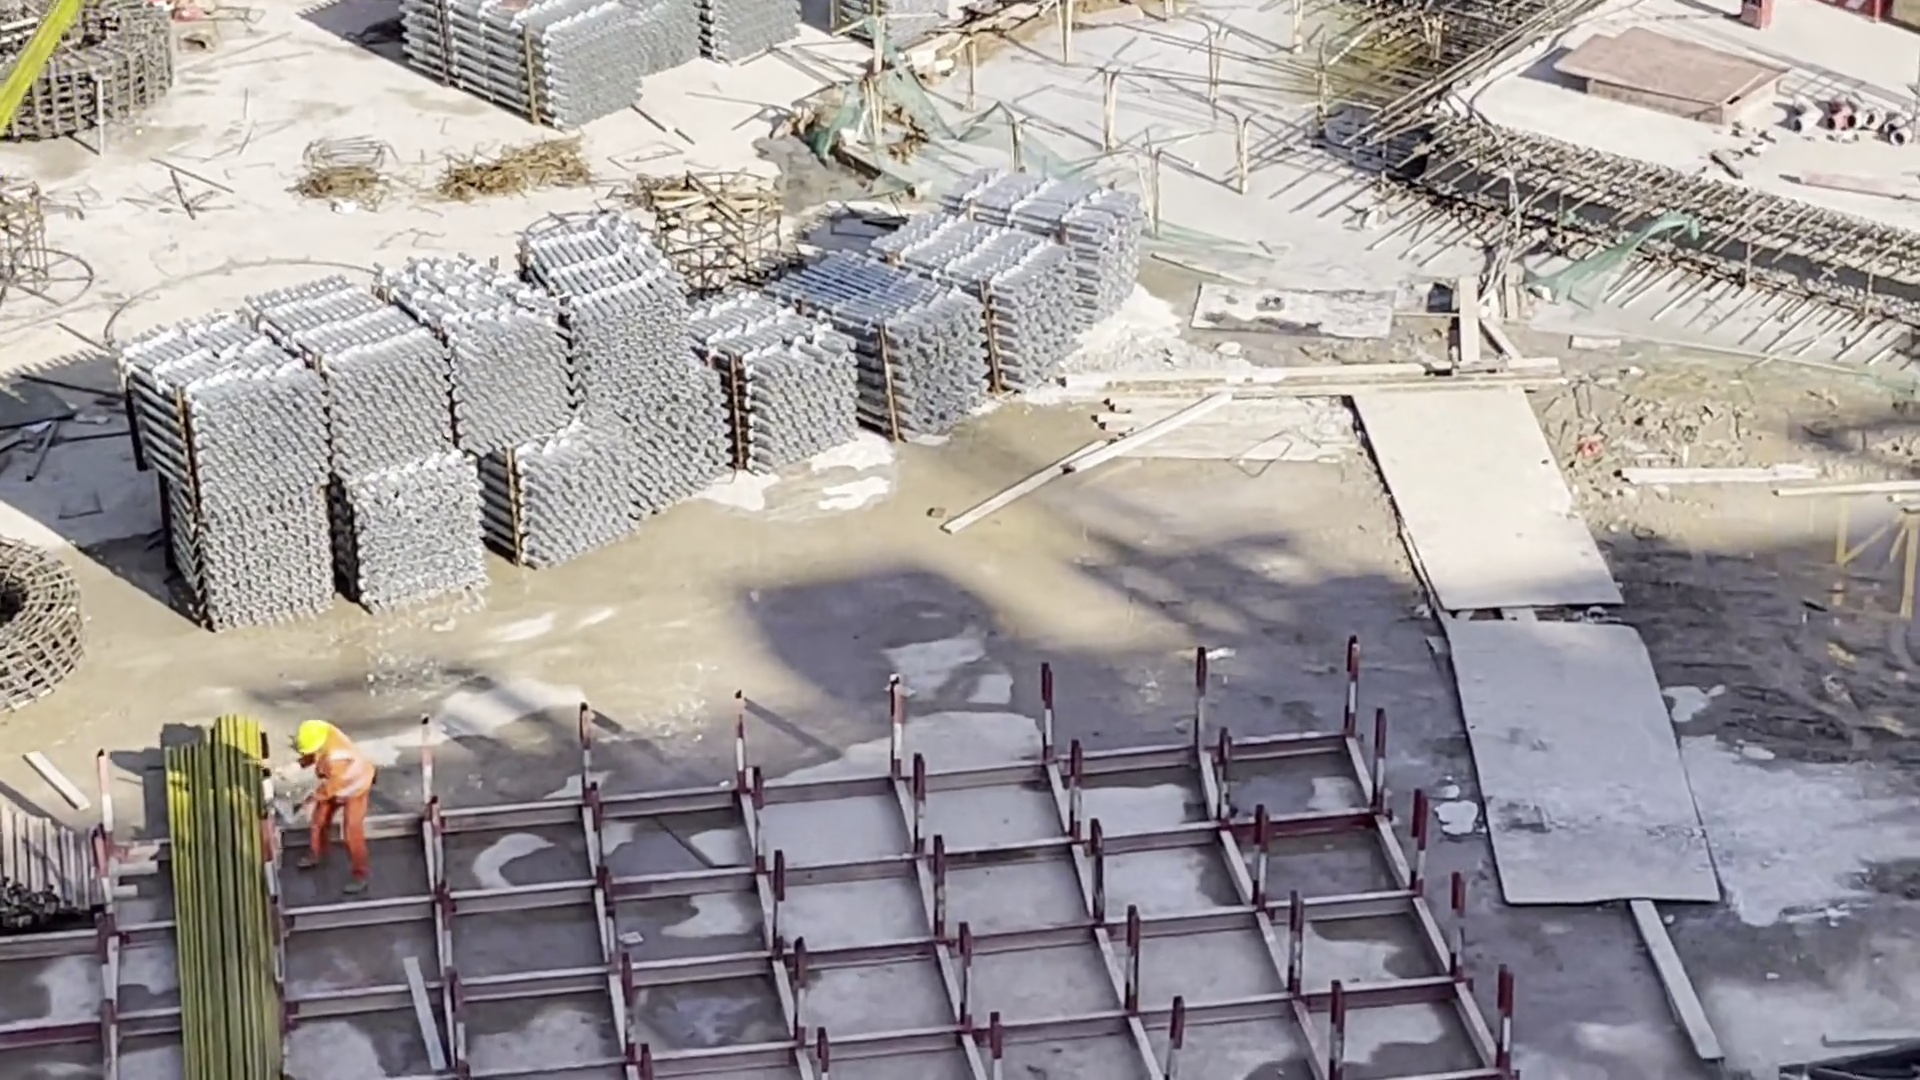board: (1550, 26, 1790, 118)
helmet: (285, 711, 334, 753)
person: (289, 723, 375, 892)
scaffold: (116, 165, 1167, 636), (394, 1, 861, 130)
vest: (307, 745, 374, 796)
